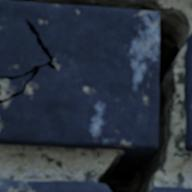brick: (0, 2, 158, 149), (185, 34, 191, 150)
broken_brick: (0, 179, 108, 191), (153, 186, 191, 191)
crack: (0, 0, 190, 191)
